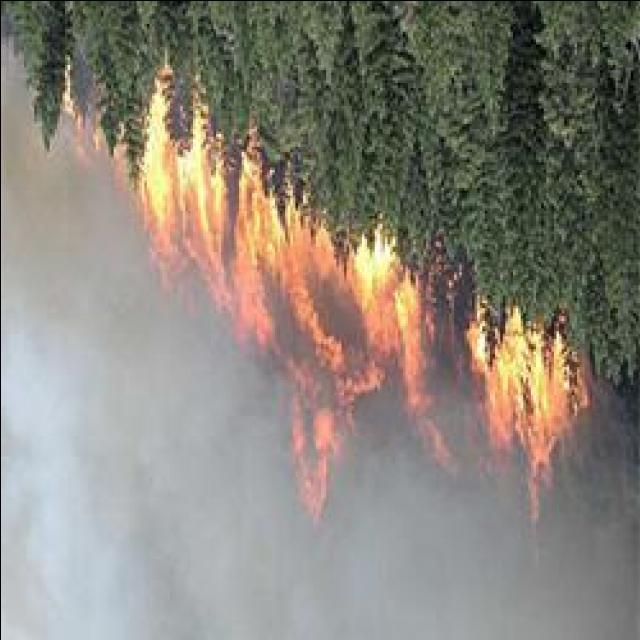fire: (466, 314, 580, 458), (140, 84, 228, 242), (224, 156, 310, 308), (348, 239, 418, 339)
smoke: (0, 371, 211, 634), (382, 479, 640, 640), (0, 159, 140, 379), (144, 526, 372, 630)
